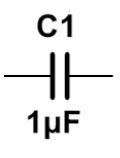Capacitor: (27, 49, 86, 100)
